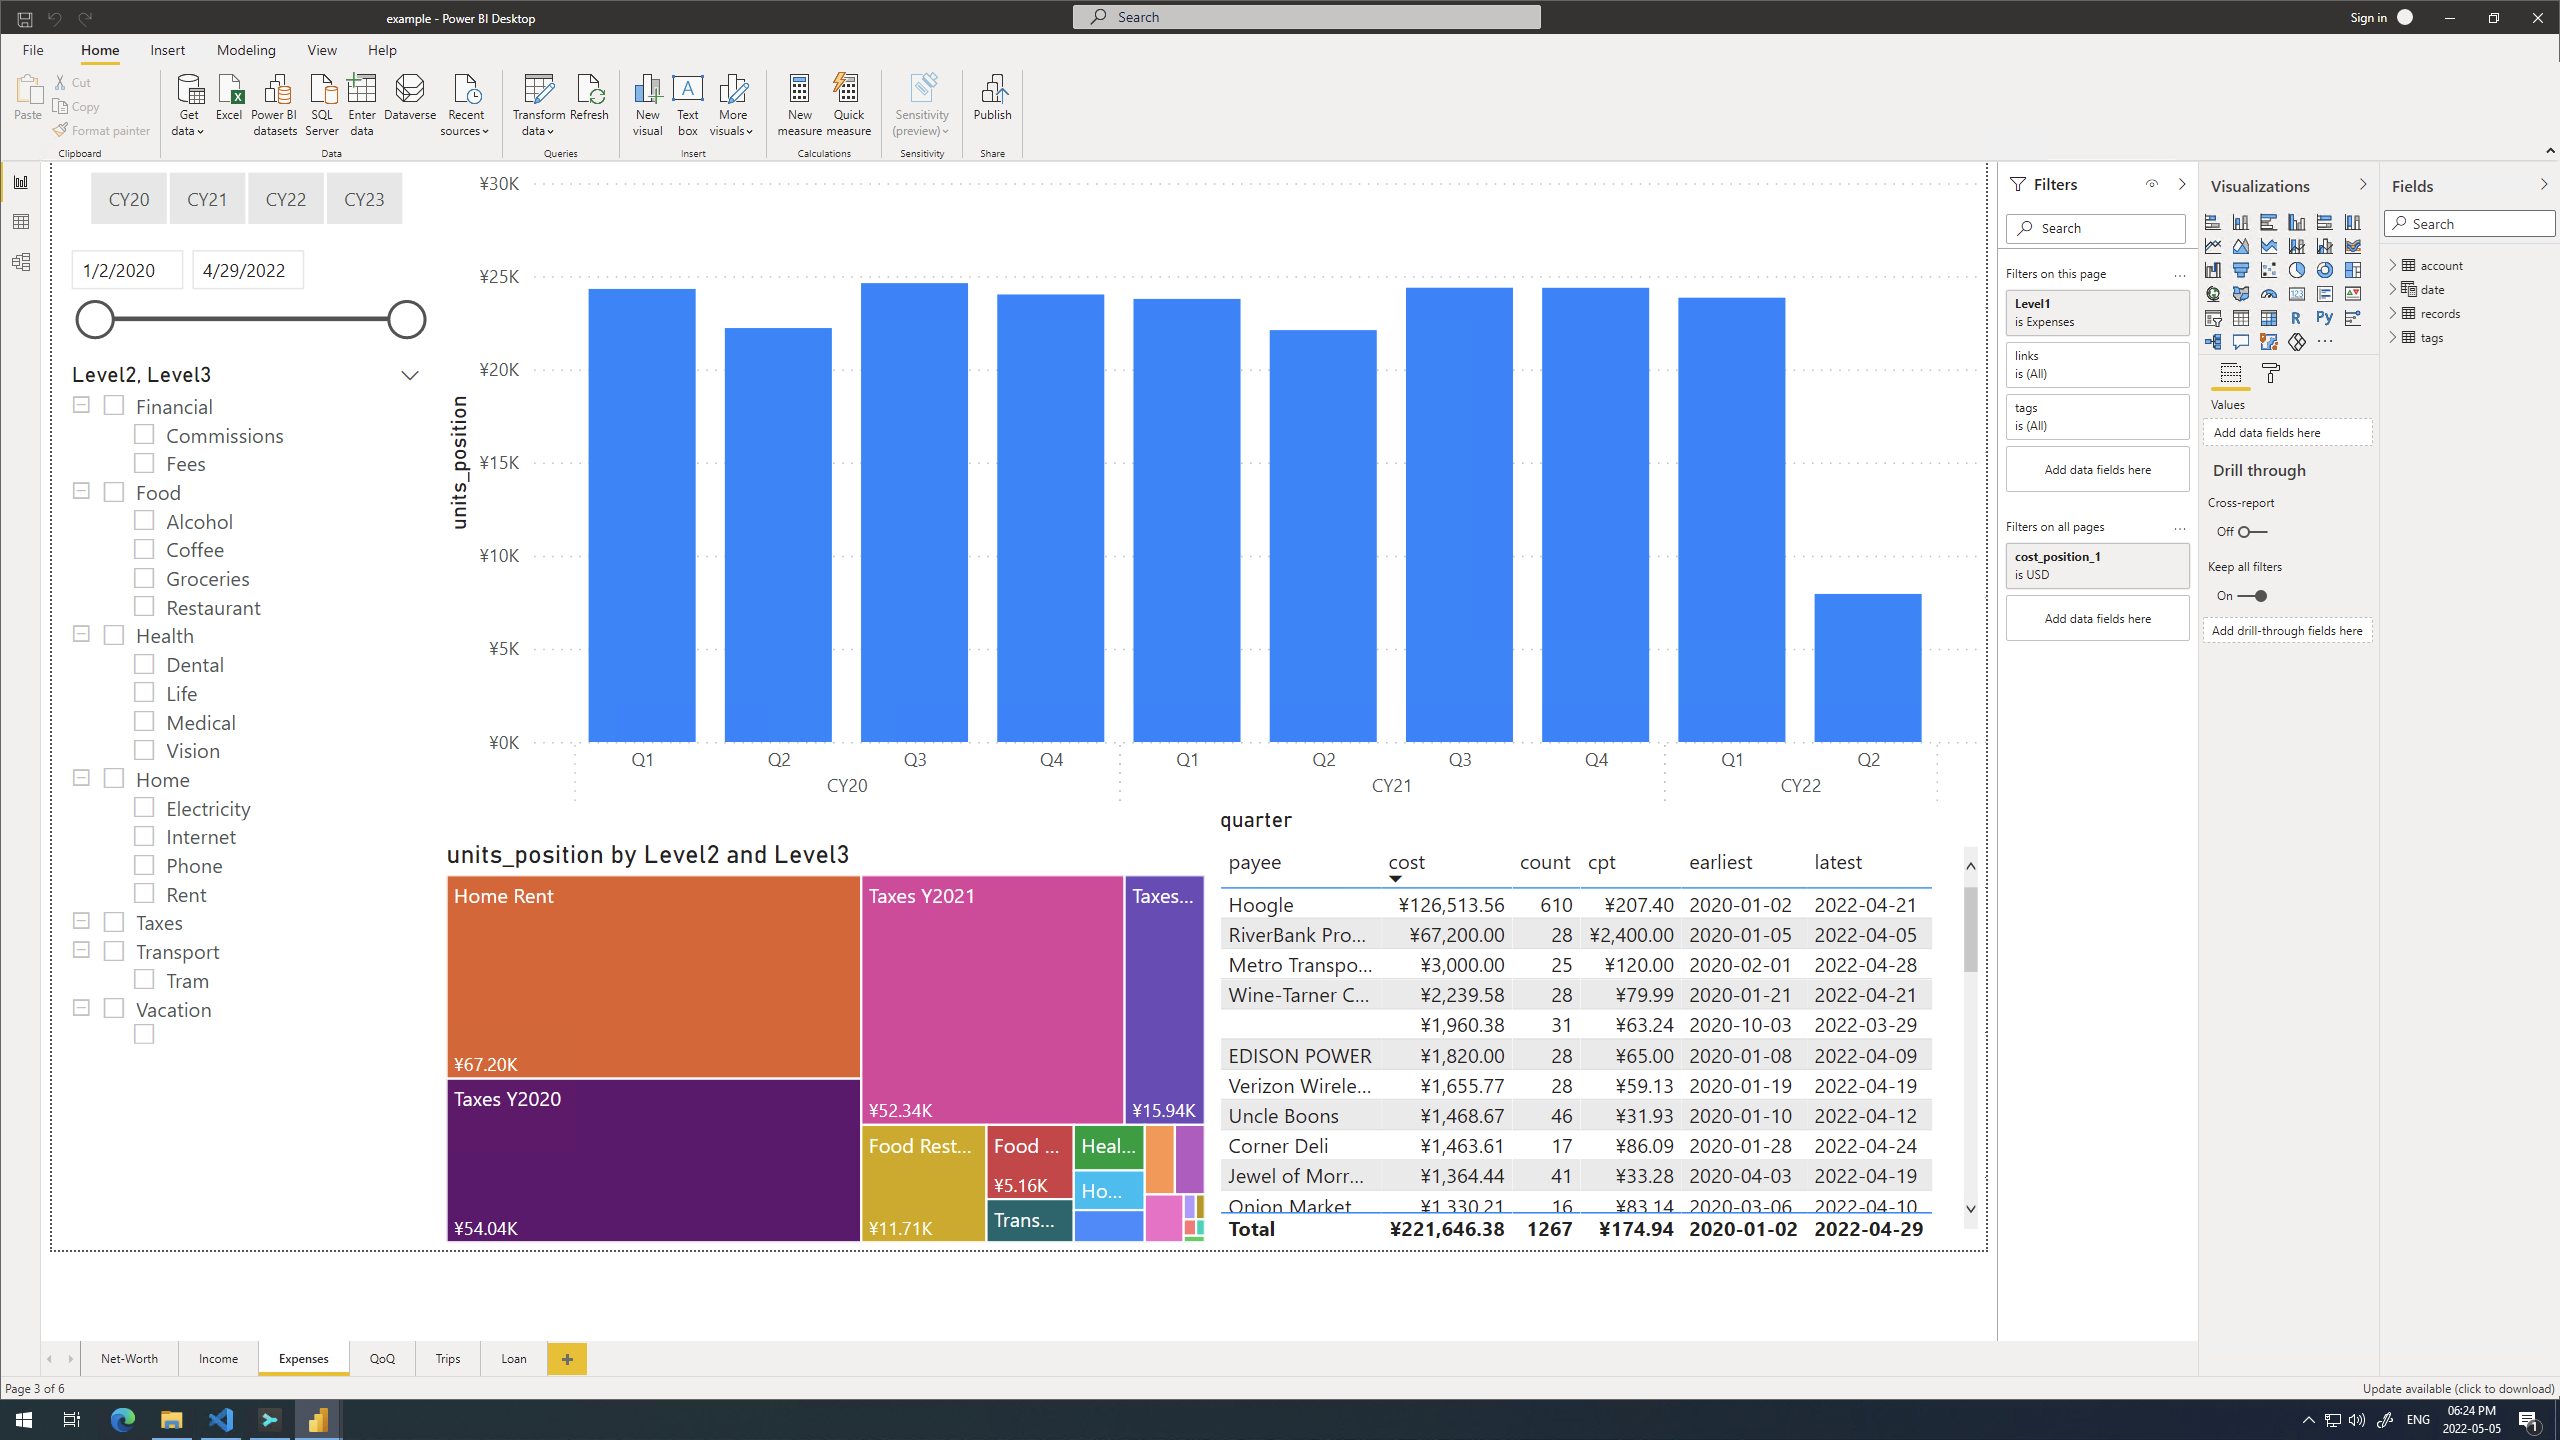

What the dashboard file says about the page in this screenshot:
{"tool":"powerbi","page":{"name":"Expenses","canvas":[1280,720],"ordinal":2},"visuals":[{"type":"slicer","fields":{"Values":["account.category.Level2","account.category.Level3"]},"box":[0,128,256,592],"z":0},{"type":"clusteredColumnChart","fields":{"Y":["Sum(records.units_position)"],"Category":["date.actual_cal.year","date.actual_cal.quarter","date.actual_cal.month"]},"box":[256,0,1024,448],"z":1000},{"type":"treemap","fields":{"Values":["Sum(records.units_position)"],"Group":["account.category.Level2","account.category.Level3"]},"box":[256,448,512,272],"z":2000},{"type":"tableEx","fields":{"Values":["records.payee","Sum(records.cost_position)","records.id","records.cpt","records.date","records.date1"]},"box":[768,448,512,272],"z":3000},{"type":"slicer","fields":{"Values":["records.date"]},"box":[0,48,256,80],"z":4000},{"type":"slicer","fields":{"Values":["date.actual_cal.year"]},"box":[0,0,256,48],"z":5000}]}

Visuals, with their boxes on the page's 1280x720 design canvas (x1, y1, x2, y2). These are canvas units, not pixel positions in the 2560x1440 screenshot, which may show the page scaled, cropped or inside an application window:
slicer - account.category.Level2 x account.category.Level3: locate(0, 128, 256, 720)
clusteredColumnChart - Sum(records.units_position) x date.actual_cal.year: locate(256, 0, 1280, 448)
treemap - Sum(records.units_position) x account.category.Level2: locate(256, 448, 768, 720)
tableEx - records.payee x Sum(records.cost_position): locate(768, 448, 1280, 720)
slicer - records.date: locate(0, 48, 256, 128)
slicer - date.actual_cal.year: locate(0, 0, 256, 48)
